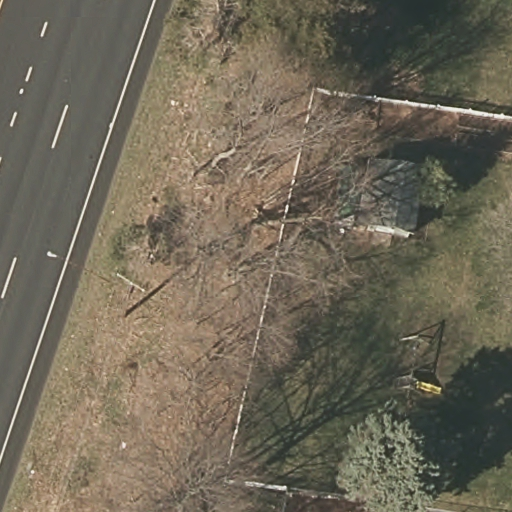DT: (110, 265, 152, 312)
